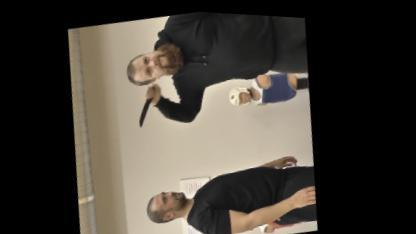knife: (131, 78, 170, 130)
